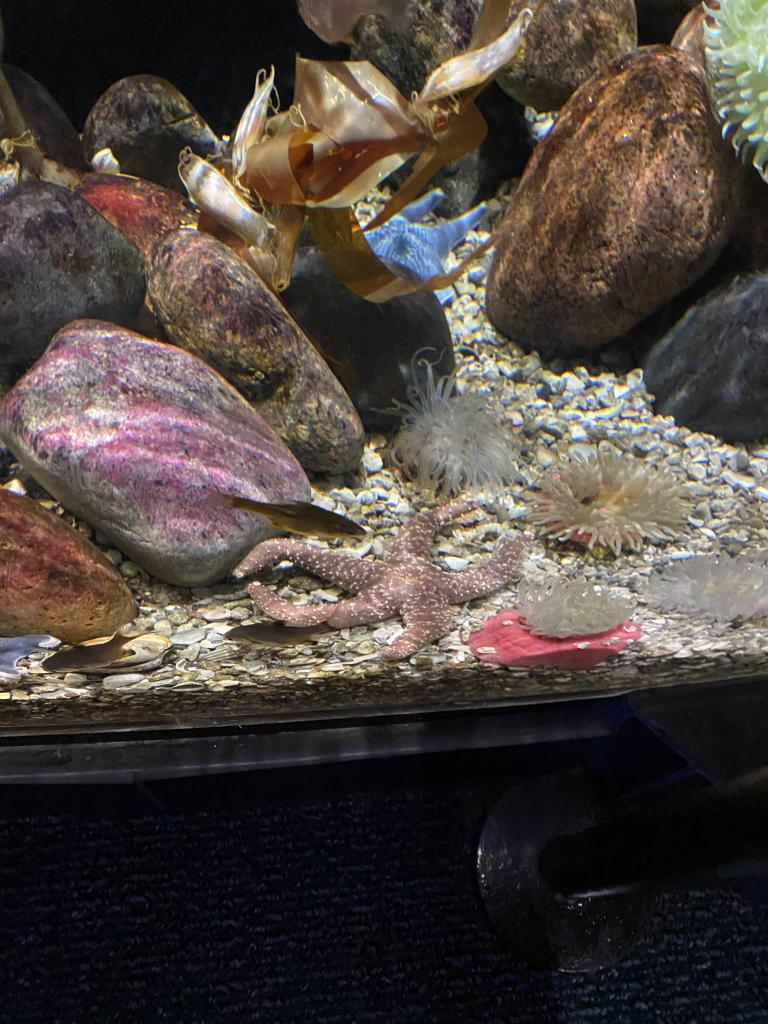fish: (198, 482, 366, 546)
starfish: (231, 488, 520, 664), (353, 183, 491, 311), (0, 634, 58, 682)
